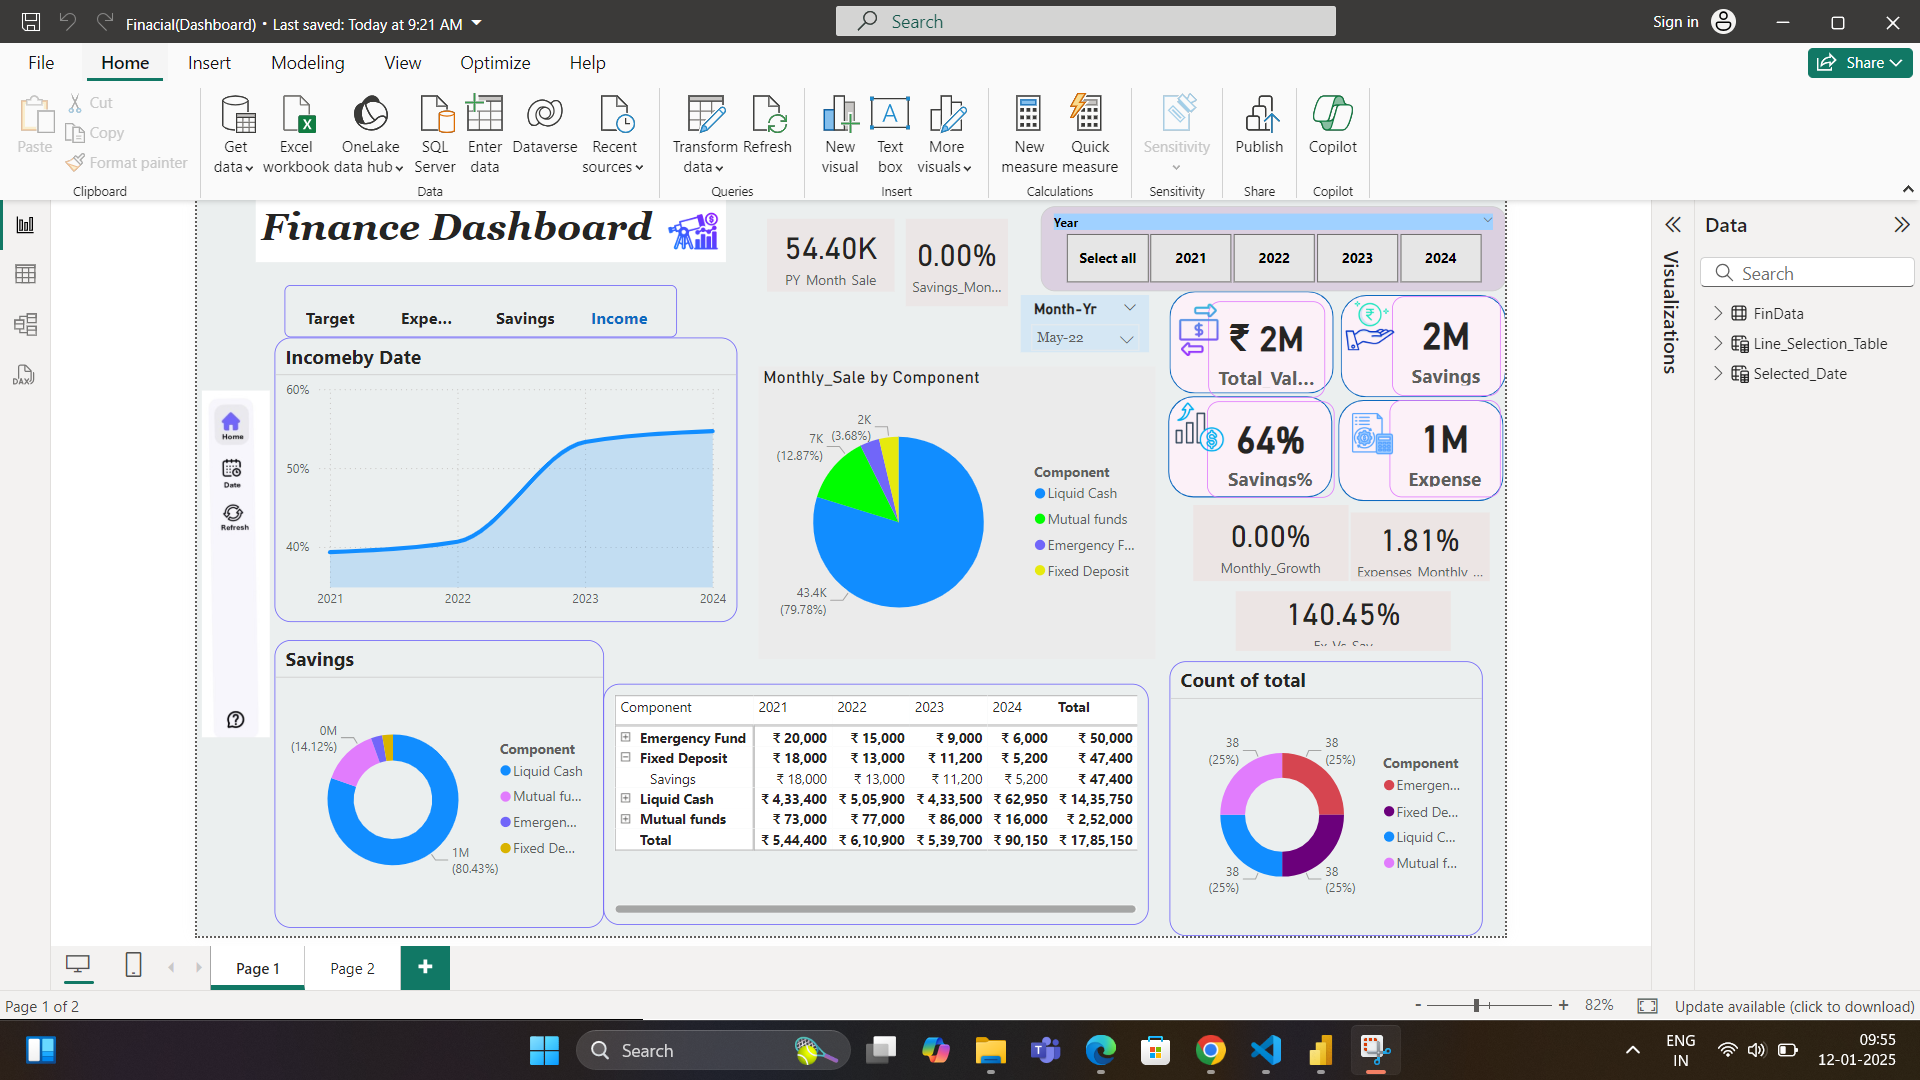

The page's visual inventory and layout, read from the dashboard file:
{"tool":"powerbi","page":{"name":"Page 1","canvas":[1280,720],"ordinal":0},"visuals":[{"type":"shape","box":[1118.4,92.9,161.7,100.1],"z":0},{"type":"shape","box":[951.9,89.3,160.5,100.1],"z":1000},{"type":"shape","box":[1116,195.4,161.7,98.9],"z":2000},{"type":"shape","box":[950.7,191.8,160.5,98.9],"z":3000},{"type":"areaChart","fields":{"Category":["FinData.Date.Variation.Date Hierarchy.Year","FinData.Date.Variation.Date Hierarchy.Quarter","FinData.Date.Variation.Date Hierarchy.Month","FinData.Date.Variation.Date Hierarchy.Day"],"Y":["FinData.Line_Chart_Measures"]},"box":[76,133.9,452.4,278.7],"z":4000},{"type":"card","fields":{"Values":["FinData.Expense"]},"box":[1166.6,195.7,108.8,95.4],"z":5000},{"type":"card","fields":{"Values":["FinData.Savings"]},"box":[1169,94.1,106.2,97.7],"z":6000},{"type":"card","fields":{"Values":["FinData.Savings%"]},"box":[988,196.9,124.7,94.2],"z":7000},{"type":"card","fields":{"Values":["FinData.Total_Value"]},"box":[989.3,98.9,114.6,94.1],"z":8000},{"type":"donutChart","title":"Savings ","fields":{"Y":["FinData.Savings"],"Category":["FinData.Component"]},"box":[75.5,430.9,322.5,281.3],"z":10000},{"type":"donutChart","title":"Count of total","fields":{"Category":["FinData.Component"],"Y":["CountNonNull(FinData.Year)"]},"box":[950.9,451.5,306,269],"z":11000},{"type":"pivotTable","fields":{"Rows":["FinData.Component","FinData.Type"],"Columns":["FinData.Year"],"Values":["FinData.Total_Value"]},"box":[397.9,473.4,533.8,236],"z":12000},{"type":"advancedSlicerVisual","fields":{"Values":["Line_Selection_Table.Type"]},"box":[85.6,83.2,384,51.4],"z":13000},{"type":"slicer","fields":{"Values":["FinData.Year"]},"box":[825.2,6,454.8,83.2],"z":14000},{"type":"textbox","box":[57.5,0,459.8,61.1],"z":15000},{"type":"card","fields":{"Values":["FinData.Monthly_Growth"]},"box":[974.6,298.4,151.6,74.6],"z":16000},{"type":"slicer","fields":{"Values":["Selected_Date.Month-Yr"]},"box":[805.8,92.9,126,56.3],"z":17000},{"type":"card","fields":{"Values":["FinData.PY_Month_Sale"]},"box":[557.6,18.3,124.7,70.9],"z":18000},{"type":"card","fields":{"Values":["FinData.Expenses_Monthly_Gr"]},"box":[1128.7,305.7,135.7,67.3],"z":19000},{"type":"card","fields":{"Values":["FinData.Savings_Monthly_Gr"]},"box":[693.3,18.3,100.3,85.6],"z":20000},{"type":"card","fields":{"Values":["FinData.Ex_Vs_Sav"]},"box":[1016.2,382.7,210.3,58.7],"z":21000},{"type":"pieChart","fields":{"Category":["FinData.Component"],"Y":["FinData.Monthly_Sale"]},"box":[549.1,162.6,388.9,286.1],"z":22000},{"type":"image","box":[0,0,76,711.8],"z":23000},{"type":"image","box":[1106.7,94.2,81.9,57.5],"z":25000},{"type":"image","box":[1116.4,203,67.3,51.4],"z":26000},{"type":"image","box":[948.9,193.2,63.6,57.5],"z":27000},{"type":"image","box":[948.9,94.2,62.4,64.8],"z":28000},{"type":"image","box":[452.4,0,64.8,61.1],"z":29000}]}

Visuals, with their boxes on the page's 1280x720 design canvas (x1, y1, x2, y2). These are canvas units, not pixel positions in the 1920x1080 screenshot, which may show the page scaled, cropped or inside an application window:
shape: bbox=(1118, 93, 1280, 193)
shape: bbox=(952, 89, 1112, 189)
shape: bbox=(1116, 195, 1278, 294)
shape: bbox=(951, 192, 1111, 291)
areaChart - FinData.Date.Variation.Date Hierarchy.Year x FinData.Date.Variation.Date Hierarchy.Quarter: bbox=(76, 134, 528, 413)
card - FinData.Expense: bbox=(1167, 196, 1275, 291)
card - FinData.Savings: bbox=(1169, 94, 1275, 192)
card - FinData.Savings%: bbox=(988, 197, 1113, 291)
card - FinData.Total_Value: bbox=(989, 99, 1104, 193)
"Savings " donutChart: bbox=(76, 431, 398, 712)
"Count of total" donutChart: bbox=(951, 452, 1257, 720)
pivotTable - FinData.Component x FinData.Type: bbox=(398, 473, 932, 709)
advancedSlicerVisual - Line_Selection_Table.Type: bbox=(86, 83, 470, 135)
slicer - FinData.Year: bbox=(825, 6, 1280, 89)
textbox: bbox=(58, 0, 517, 61)
card - FinData.Monthly_Growth: bbox=(975, 298, 1126, 373)
slicer - Selected_Date.Month-Yr: bbox=(806, 93, 932, 149)
card - FinData.PY_Month_Sale: bbox=(558, 18, 682, 89)
card - FinData.Expenses_Monthly_Gr: bbox=(1129, 306, 1264, 373)
card - FinData.Savings_Monthly_Gr: bbox=(693, 18, 794, 104)
card - FinData.Ex_Vs_Sav: bbox=(1016, 383, 1226, 441)
pieChart - FinData.Component x FinData.Monthly_Sale: bbox=(549, 163, 938, 449)
image: bbox=(0, 0, 76, 712)
image: bbox=(1107, 94, 1189, 152)
image: bbox=(1116, 203, 1184, 254)
image: bbox=(949, 193, 1012, 251)
image: bbox=(949, 94, 1011, 159)
image: bbox=(452, 0, 517, 61)
